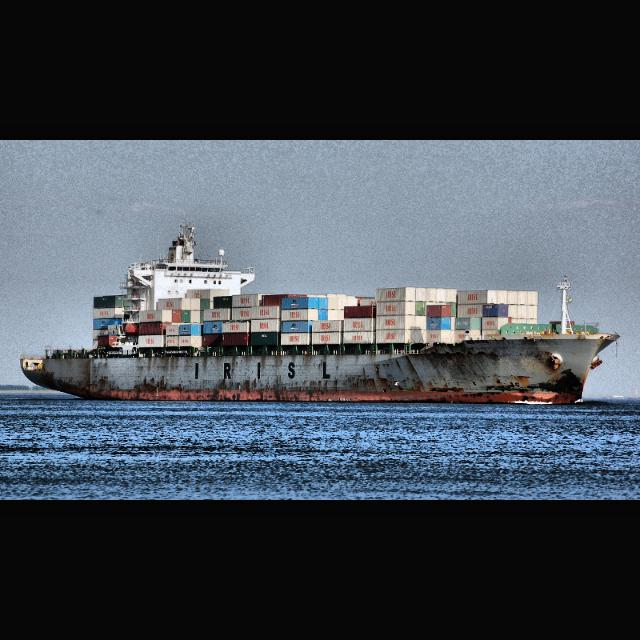container: (19, 223, 622, 407)
